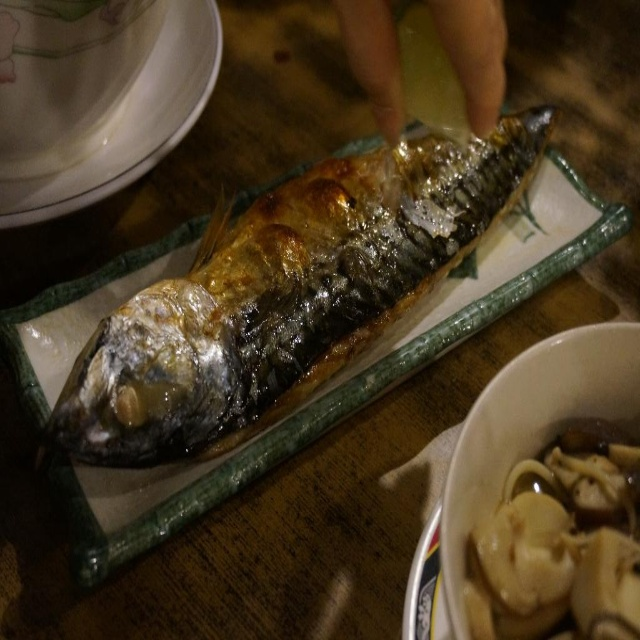Fish: (30, 110, 563, 454)
